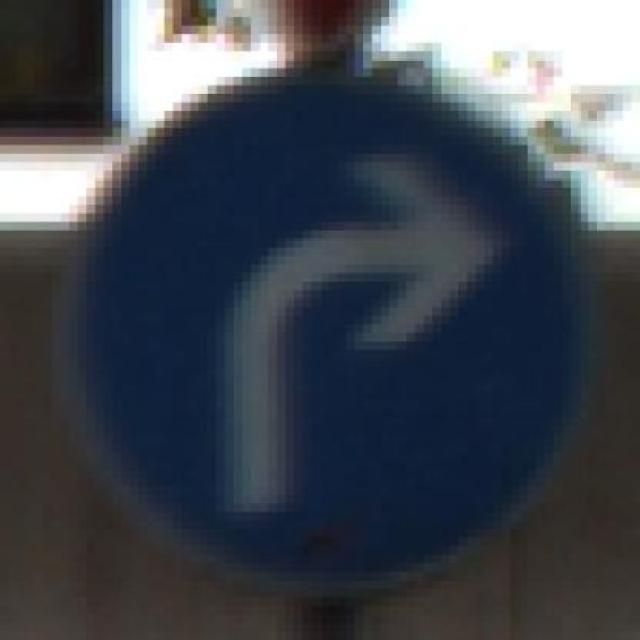Turn right ahead: (69, 60, 588, 589)
